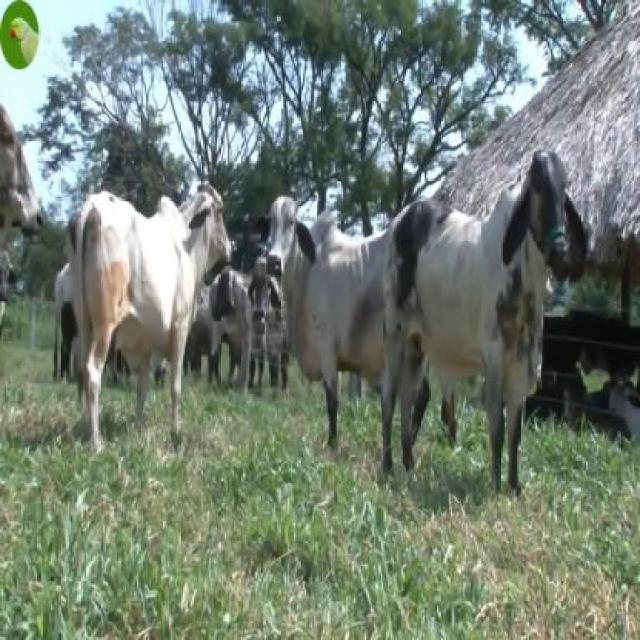Cow: (75, 185, 234, 464)
